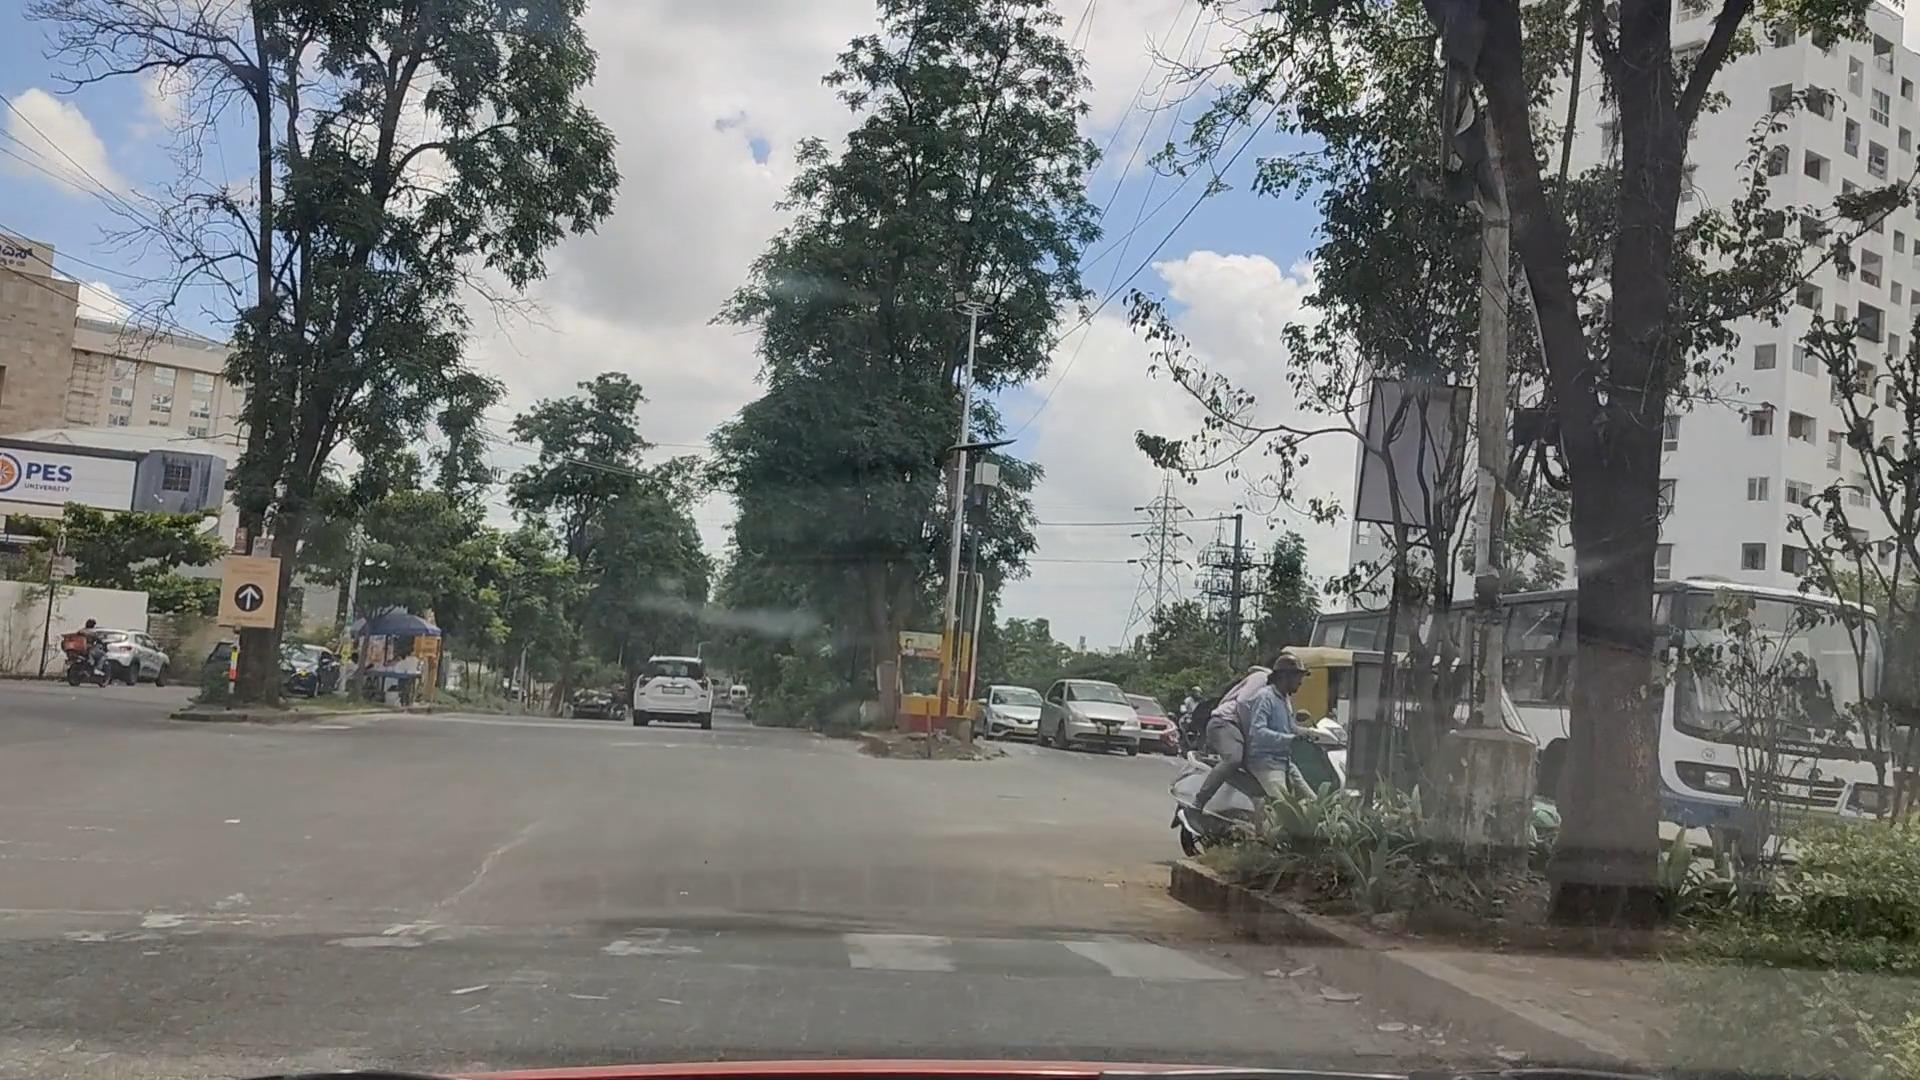RoadDamages: (434, 807, 555, 903)
SpeedBump: (3, 928, 1395, 1056)
